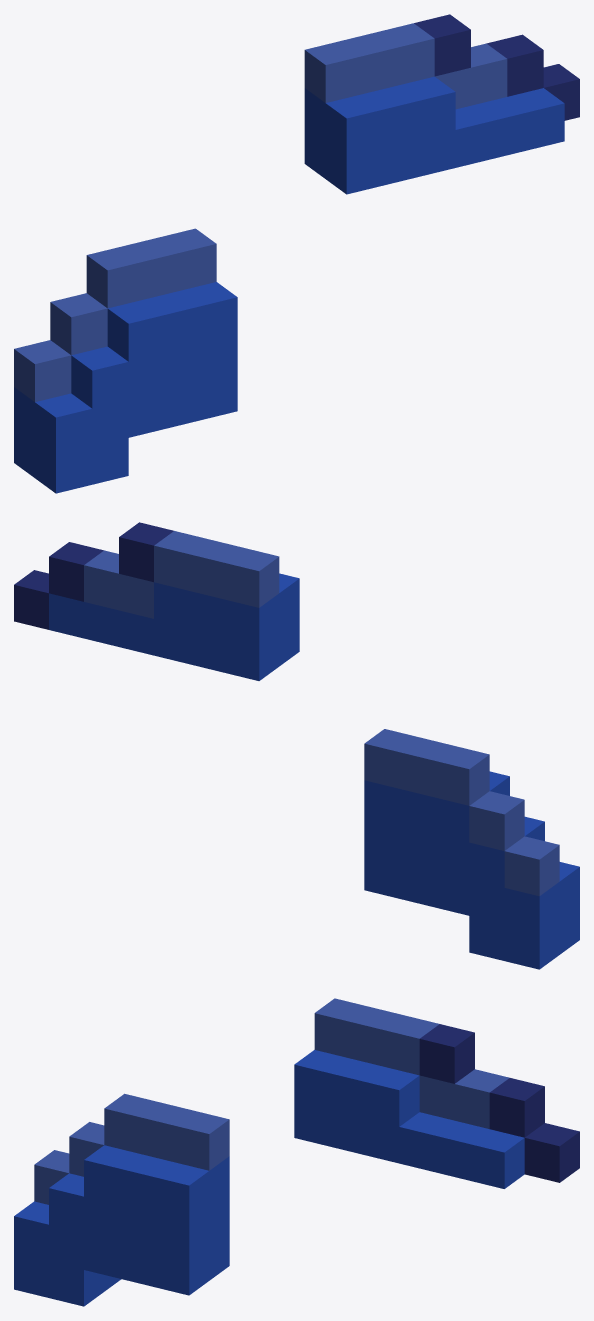
The model's file is whale-4.obj.
The picture shows the model from 3 angles, top to bottom: view 1: azimuth 30°, elevation 25°; view 2: azimuth 150°, elevation 25°; view 3: azimuth 330°, elevation 25°; orthographic projection. The views are drawn at different scales.
Bounding box in the file's own units: 1.5 × 0.9 × 0.2.
Materials: 1 (1 with a texture image).
